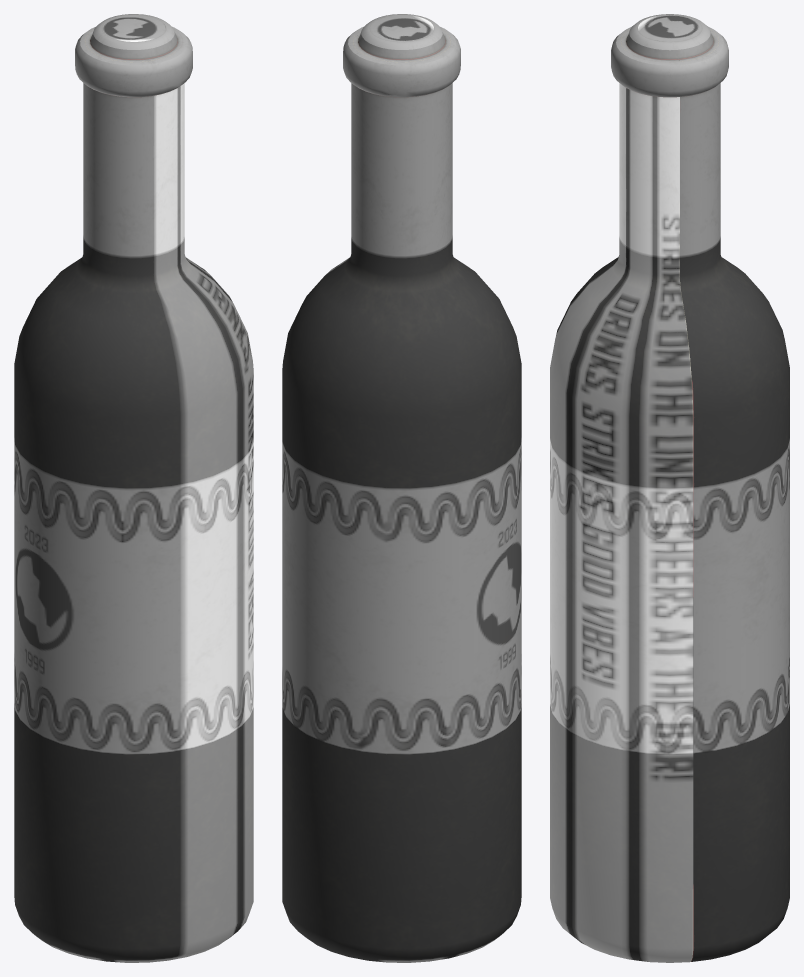
The model's file is SM_WineBottle2.fbx.
3 renders of one model, left to right at view 1: azimuth 30°, elevation 25°; view 2: azimuth 150°, elevation 25°; view 3: azimuth 270°, elevation 25°, orthographic.
Visible parts, largest first — view 1: SM_WineBottle2_LOD0; view 2: SM_WineBottle2_LOD0; view 3: SM_WineBottle2_LOD0.
Part boxes in pixels (x1=…): SM_WineBottle2_LOD0: x1=14, y1=14, x2=253, y2=962; SM_WineBottle2_LOD0: x1=282, y1=14, x2=521, y2=962; SM_WineBottle2_LOD0: x1=550, y1=14, x2=789, y2=962.
Size of the model in its own units: 9.09 by 9.09 by 37.19.
1 material, 1 textured.
